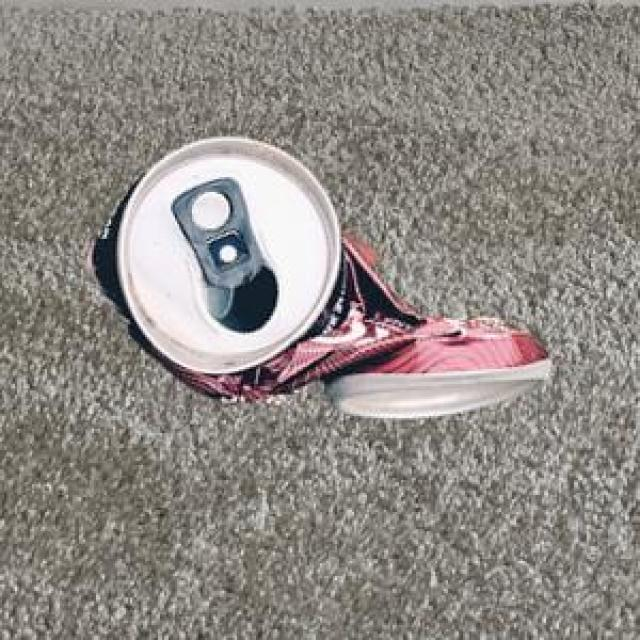logam: (84, 133, 547, 415)
